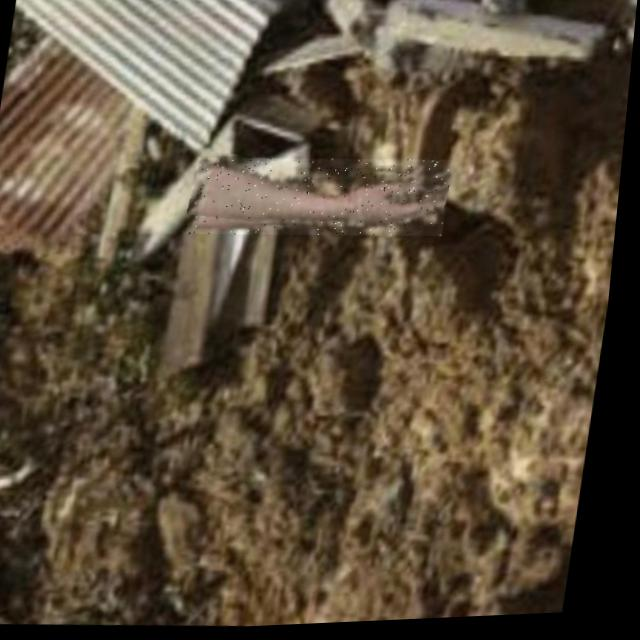Person in Rubble: (189, 150, 458, 248)
